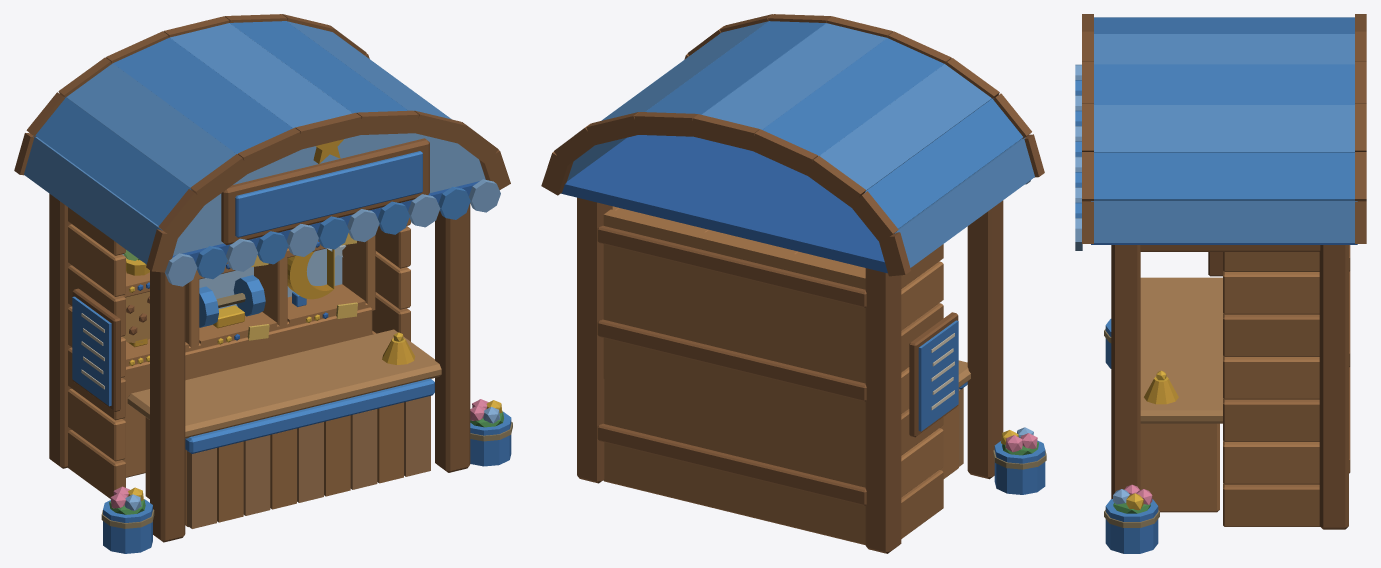
The model's file is ranch_upgrade_cabinet.fbx.
The picture shows the model from 3 angles, left to right: view 1: azimuth 30°, elevation 25°; view 2: azimuth 150°, elevation 25°; view 3: azimuth 270°, elevation 25°; orthographic projection. The views are drawn at different scales.
Parts seen in each view (by area): view 1: ranch_upgrade_cabinet; view 2: ranch_upgrade_cabinet; view 3: ranch_upgrade_cabinet.
Boxes of the visible parts, x1,y1,x2,y2 form: ranch_upgrade_cabinet: (14,14,512,553); ranch_upgrade_cabinet: (541,14,1046,553); ranch_upgrade_cabinet: (1075,14,1366,553).
Size of the model in its own units: 16.41 by 15.29 by 9.93.
